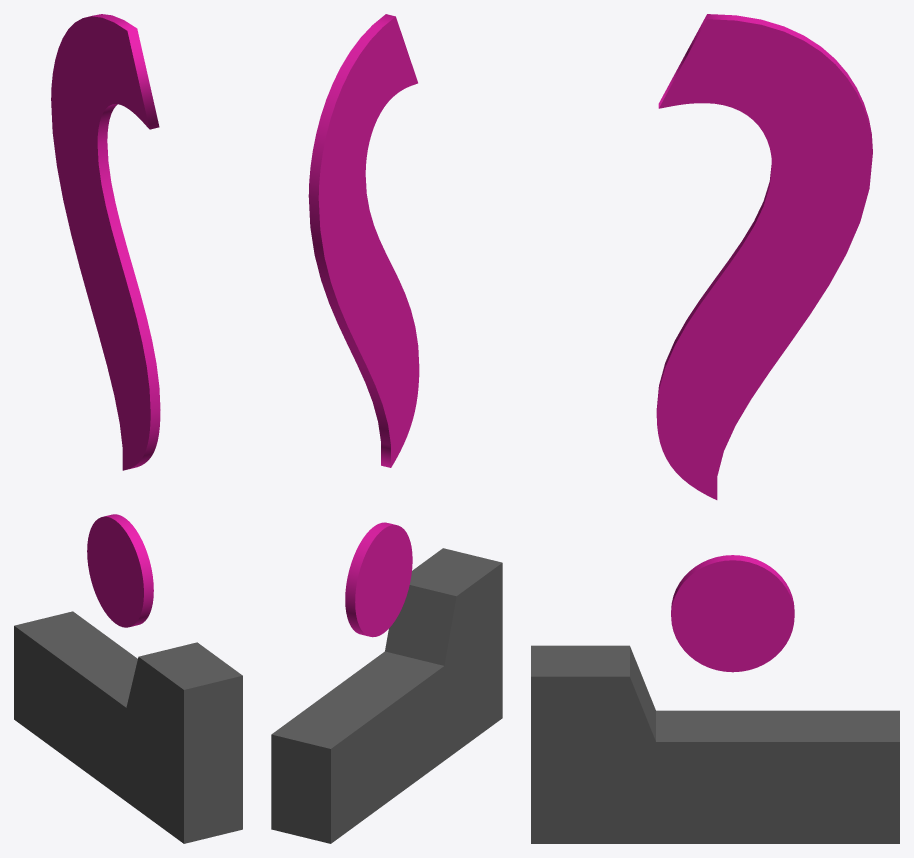
Rendered from neon sign.glb.
The picture shows the model from 3 angles, left to right: view 1: azimuth 30°, elevation 25°; view 2: azimuth 150°, elevation 25°; view 3: azimuth 270°, elevation 25°; orthographic projection. The views are drawn at different scales.
Visible parts, largest first — view 1: Cube; view 2: Cube; view 3: Cube.
Boxes of the visible parts, left/top/right/bottom form: Cube: left=14, top=14, right=242, bottom=843; Cube: left=271, top=14, right=502, bottom=843; Cube: left=531, top=14, right=899, bottom=843.
Size of the model in its own units: 0.4 by 4.86 by 2.
